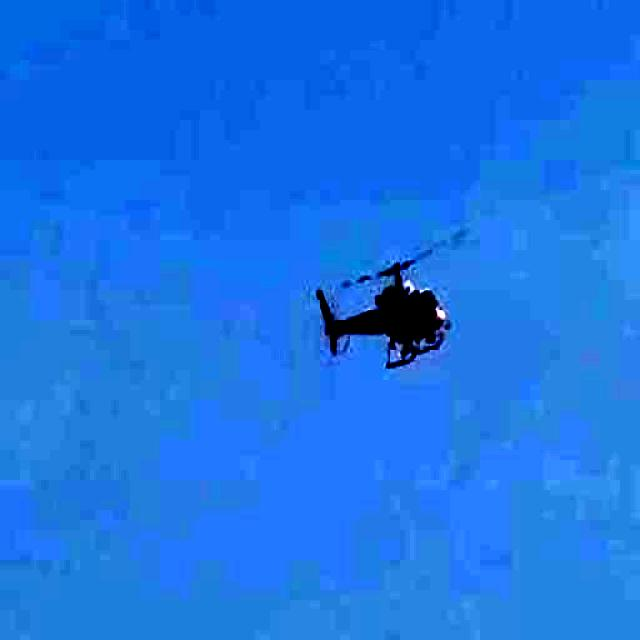drone: (279, 198, 505, 394)
